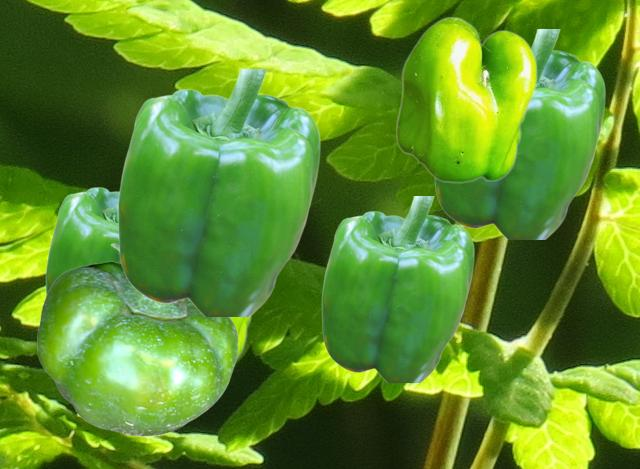bell_pepper: (117, 69, 319, 315), (37, 241, 237, 435), (434, 29, 604, 238), (321, 196, 473, 381), (395, 16, 536, 182), (45, 186, 119, 295), (230, 314, 254, 360)
